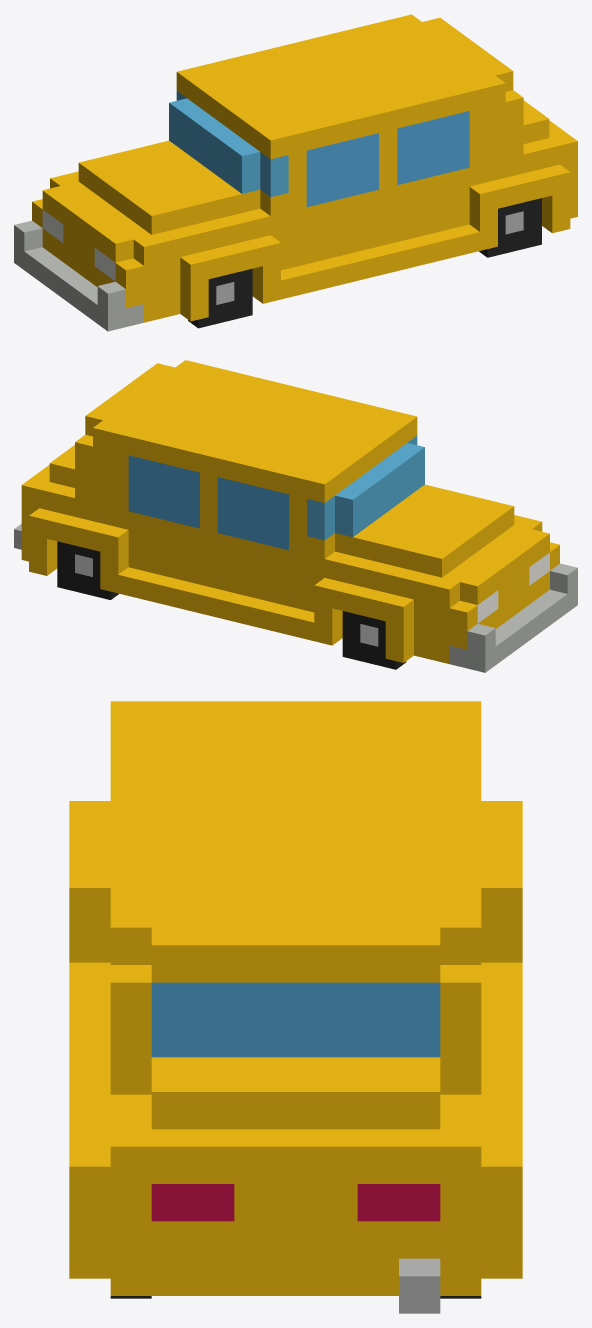
Rendered from voxel_car.glb.
The picture shows the model from 3 angles, top to bottom: view 1: azimuth 30°, elevation 25°; view 2: azimuth 150°, elevation 25°; view 3: azimuth 270°, elevation 25°; orthographic projection. The views are drawn at different scales.
Visible parts, largest first — view 1: Object_2; view 2: Object_2; view 3: Object_2.
Part boxes in pixels (x1,y1,x2,y2): Object_2: (14, 14, 577, 331); Object_2: (14, 360, 577, 672); Object_2: (69, 701, 522, 1313).
Bounding box in the file's own units: 27 × 9 × 11.
Materials: 1 (1 with a texture image).
